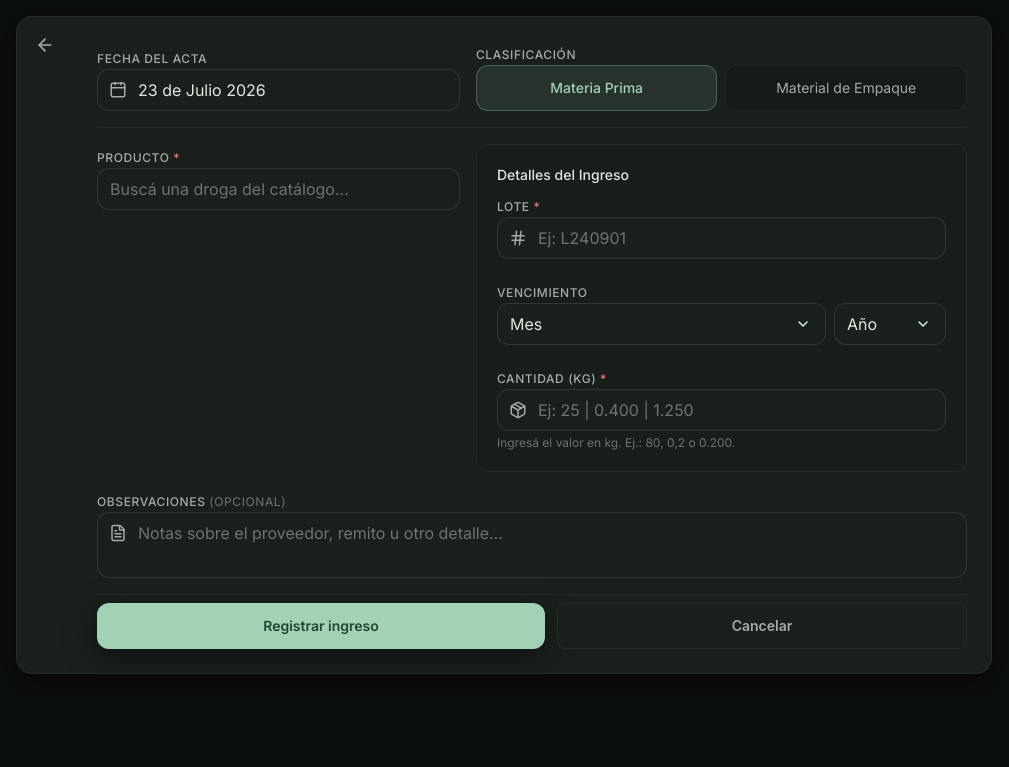
Test case: ActaNuevaPage › shows validation errors on empty submit
Submit without selecting a product or filling cantidad
Click the button "Registrar ingreso".
click(321, 626)  # box 97,603 -> 545,649
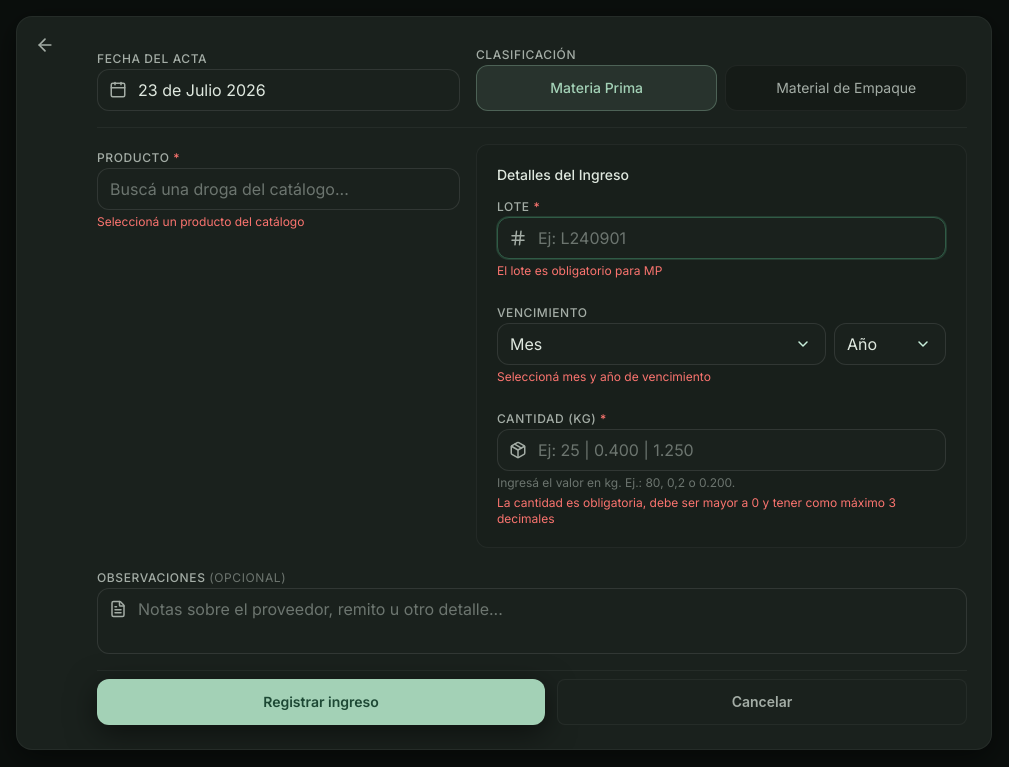
Result: the text "Seleccioná un producto del catálogo" is shown at 97,214 -> 304,229
